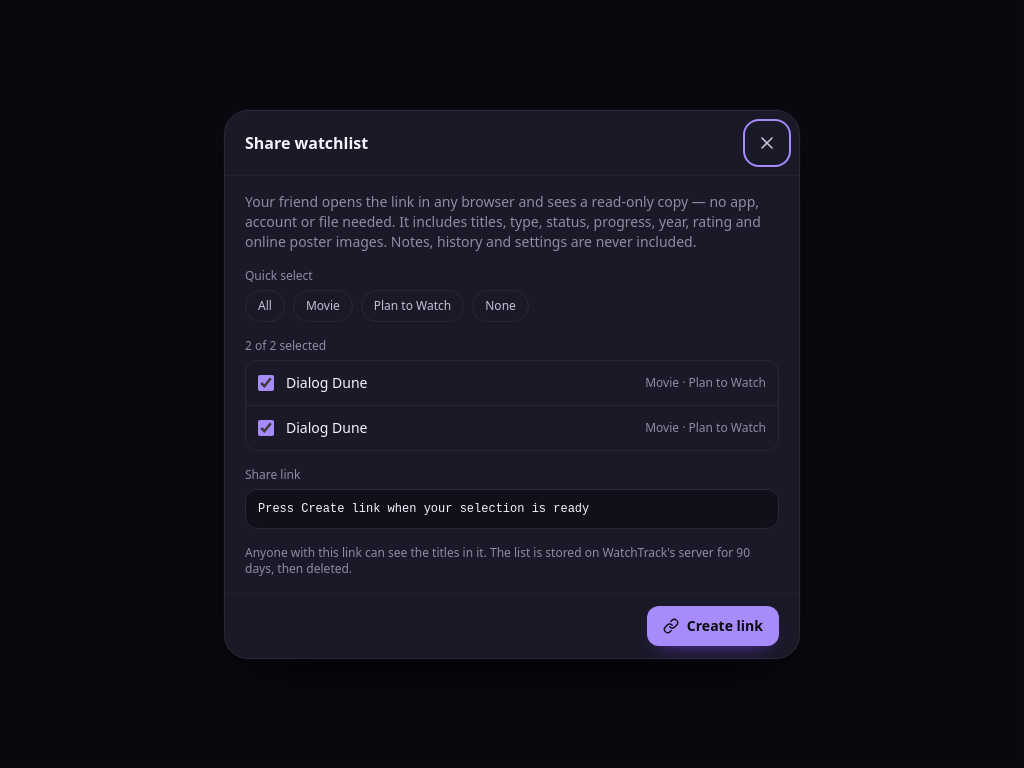
it: ShareDialog › falls back to a long link when the server cannot store the list
Step 1. Click the button "Create link" → (713, 626), box [647, 606, 779, 646]
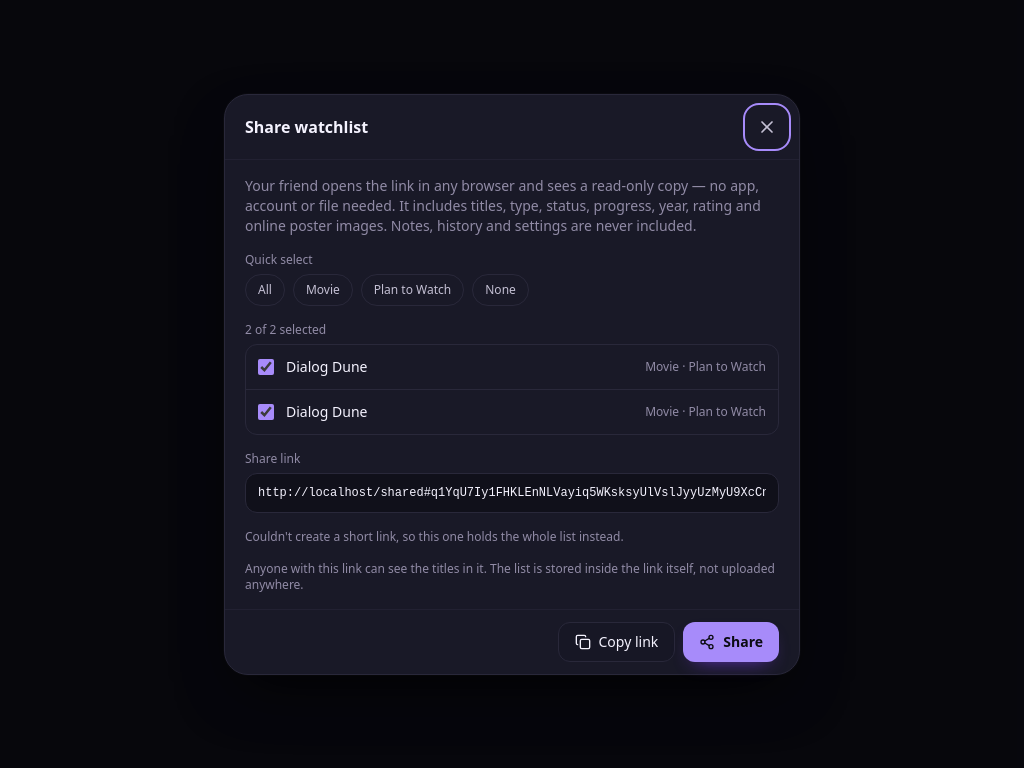
Check: the text "Couldn't create a short link" is shown, box [245, 528, 624, 544]
Check: the text "stored inside the link itself" is shown, box [245, 560, 775, 592]
